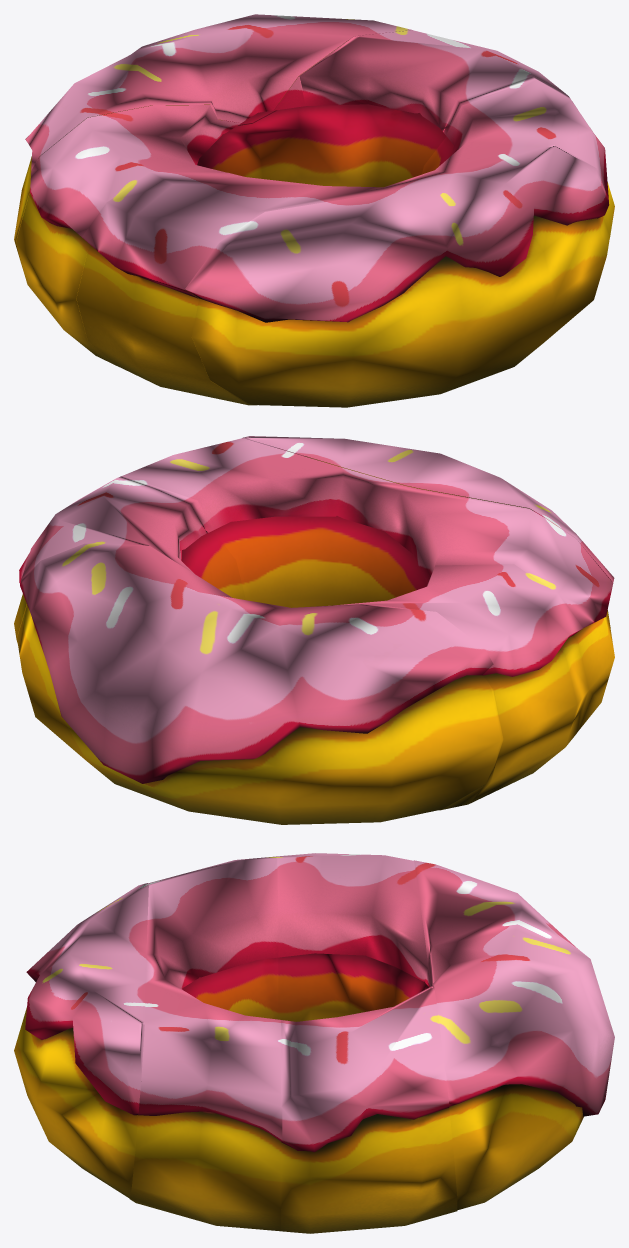
File: DoNut.fbx
3 views of the same model, one above another, from view 1: azimuth 30°, elevation 25°; view 2: azimuth 150°, elevation 25°; view 3: azimuth 270°, elevation 25° (orthographic). The views are drawn at different scales.
Parts seen in each view (by area): view 1: polySurface9, polySurface15, polySurface7, polySurface14; view 2: polySurface14, polySurface7, polySurface15, polySurface9; view 3: polySurface15, polySurface7, polySurface14, polySurface9.
Boxes of the visible parts, bbox=[...] form: polySurface9: bbox=[185, 144, 609, 407]; polySurface15: bbox=[16, 30, 573, 366]; polySurface7: bbox=[76, 80, 614, 405]; polySurface14: bbox=[14, 14, 412, 263]; polySurface14: bbox=[17, 543, 503, 824]; polySurface7: bbox=[123, 438, 614, 731]; polySurface15: bbox=[14, 475, 588, 810]; polySurface9: bbox=[242, 436, 614, 627]; polySurface15: bbox=[276, 853, 457, 1233]; polySurface7: bbox=[129, 856, 282, 1231]; polySurface14: bbox=[414, 860, 614, 1210]; polySurface9: bbox=[14, 883, 148, 1198].
Size of the model in its own units: 45.69 by 17.19 by 46.11.
Materials: 1 (1 with a texture image).
